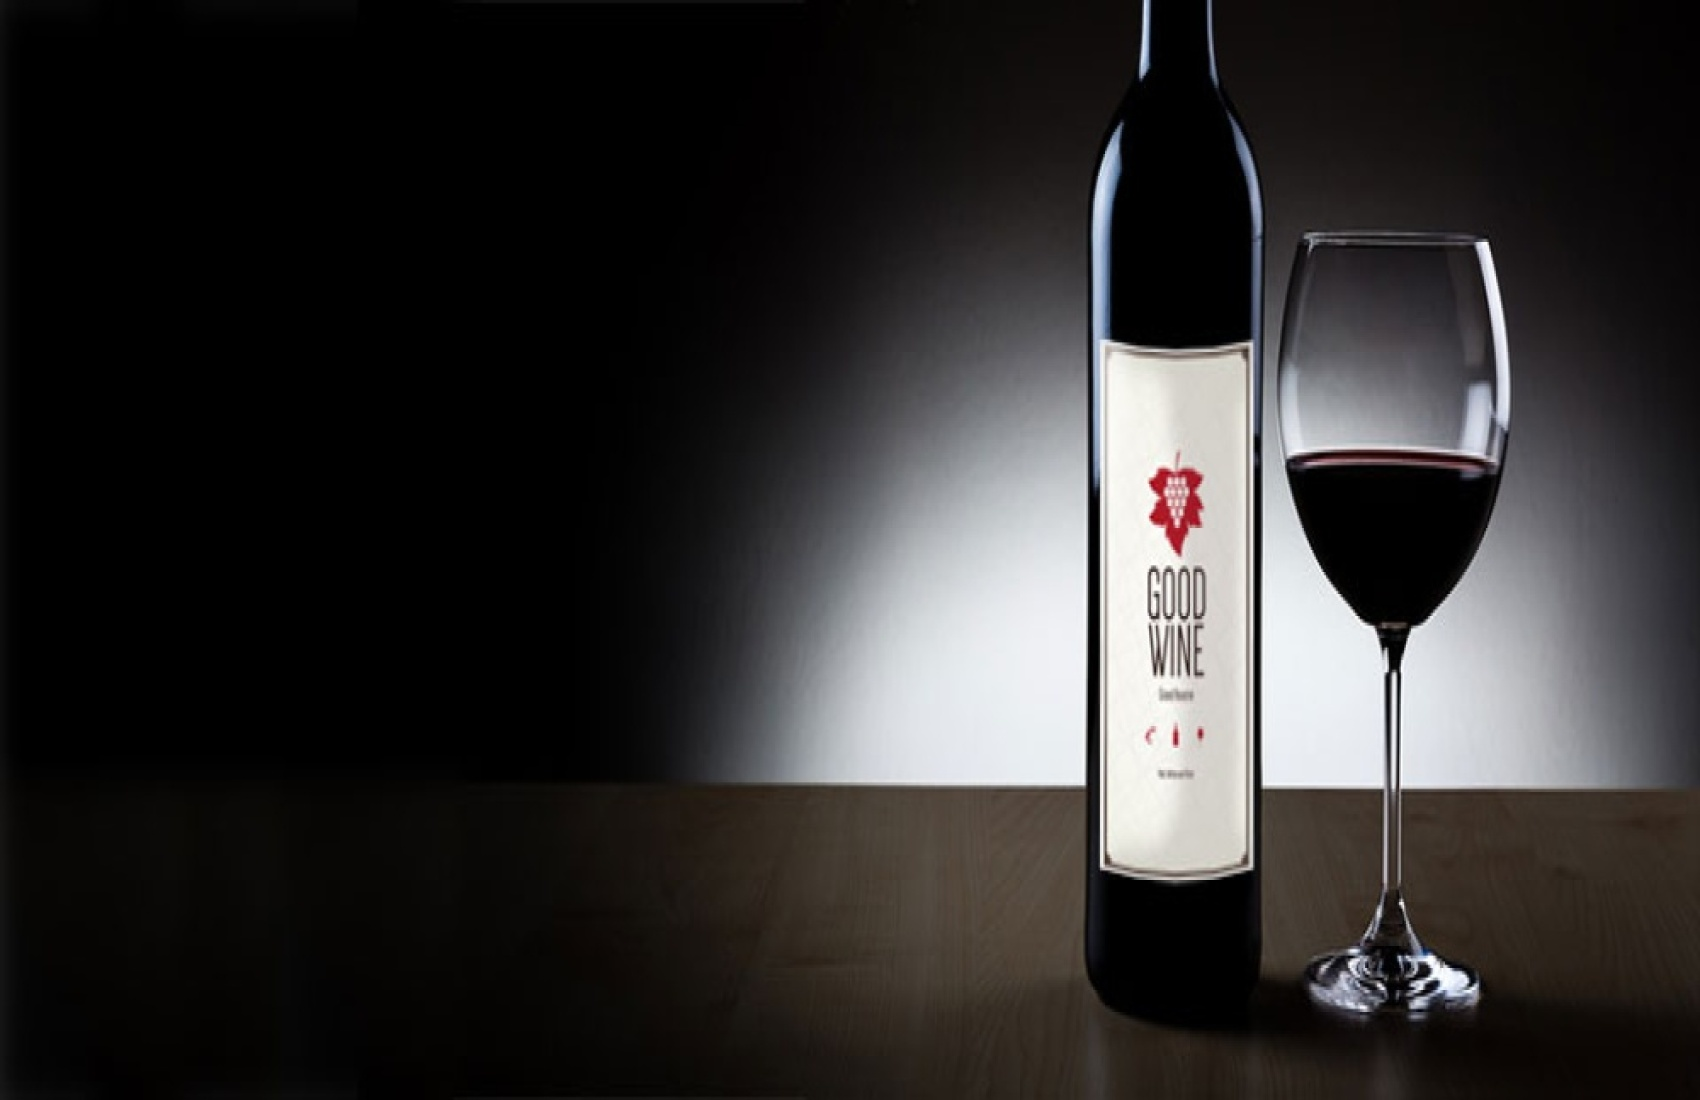wine: (1083, 79, 1268, 1001)
